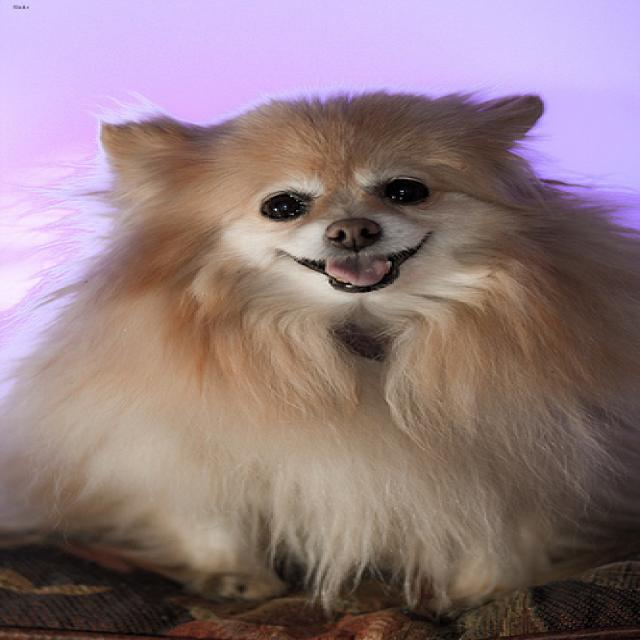dog-pomeranian: (2, 77, 636, 623)
